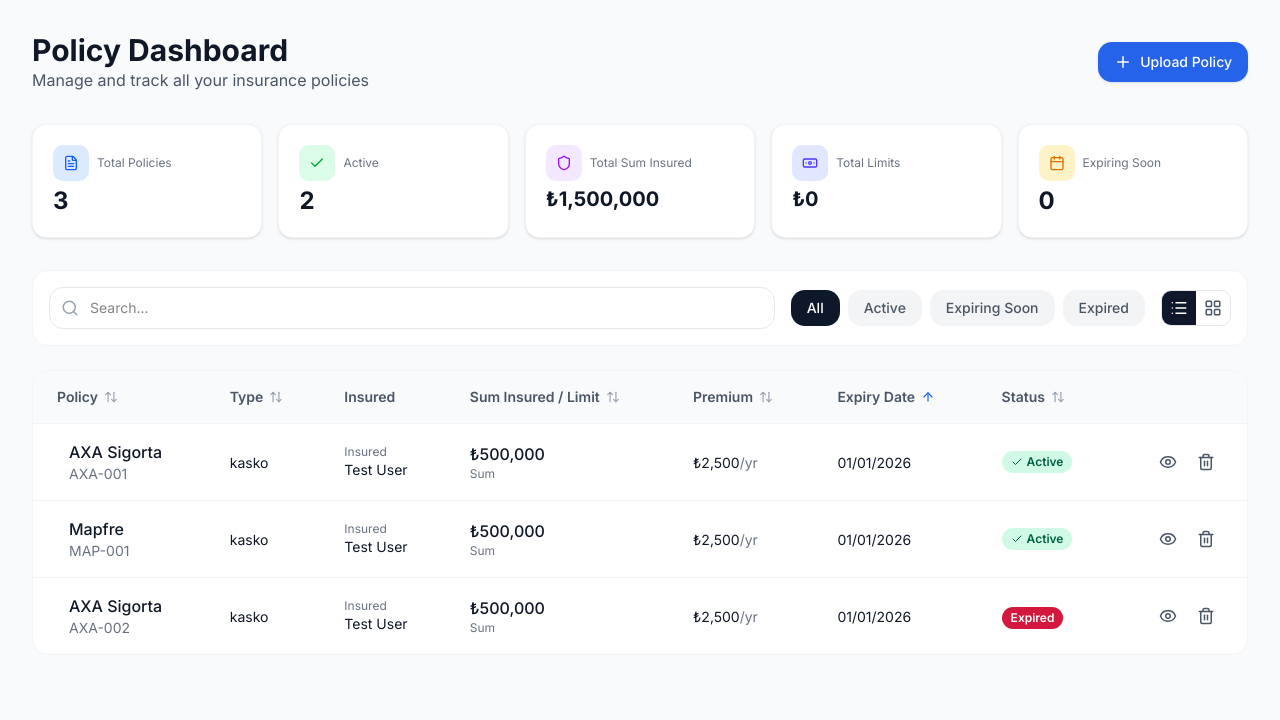
Test: PolicyDashboard Branch Coverage › Combined search + status filter › applies both search and status filter simultaneously
This screenshot has width=1280, height=720.
Click the button "Active" at (885, 308), box top-left (848, 290), bottom-right (922, 326)
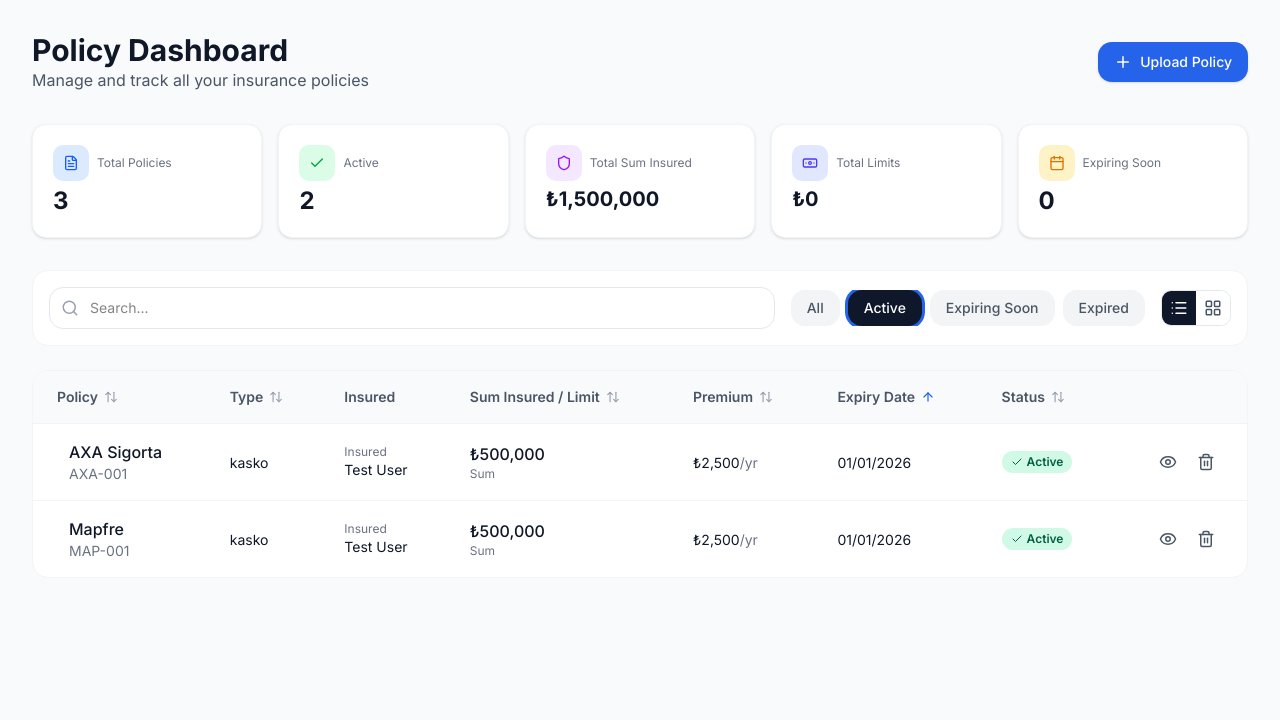
# Then search for AXA
Type "axa" into the field with placeholder "Search..." at (412, 308), box top-left (49, 287), bottom-right (775, 329)
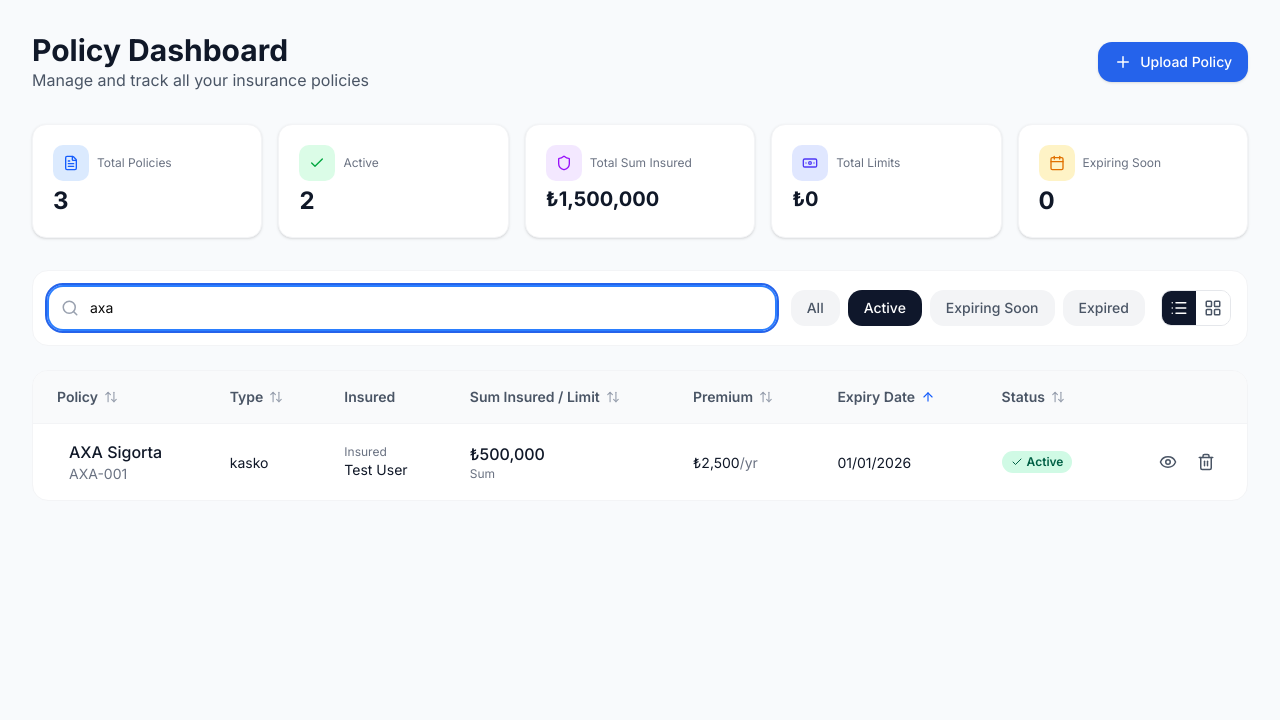
Expected: the text "AXA-001" is shown, top-left (69, 465), bottom-right (127, 482)
Expected: the text "MAP-001" is gone
